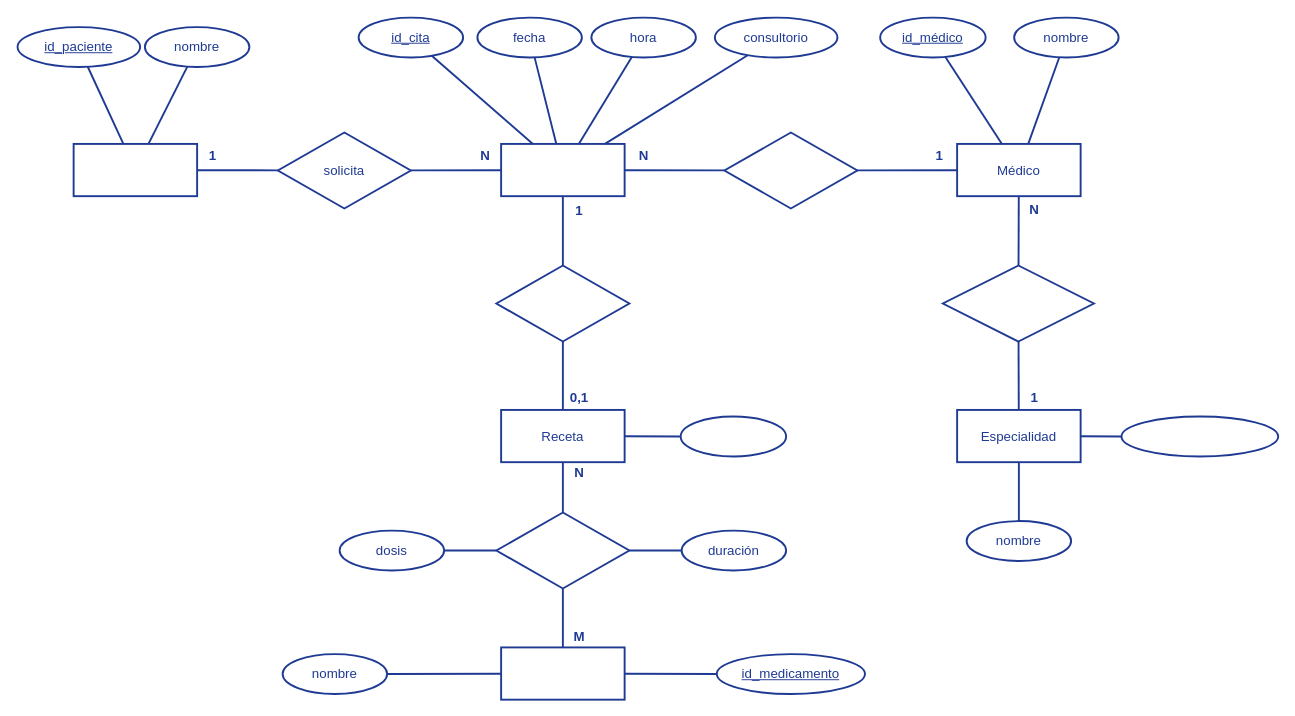
Image size: 1295x716. Some labels were removed from this diagram. Each missing label, with the centre of its shape:
"atiende" belongs at [790,170].
"Cita" belongs at [562,169].
"genera" belongs at [562,303].
"id_especialidad" belongs at [1199,436].
"id_receta" belongs at [733,436].
"incluye" belongs at [562,550].
"Medicamento" belongs at [562,673].
"Paciente" belongs at [135,169].
"pertenece a" belongs at [1017,303].
